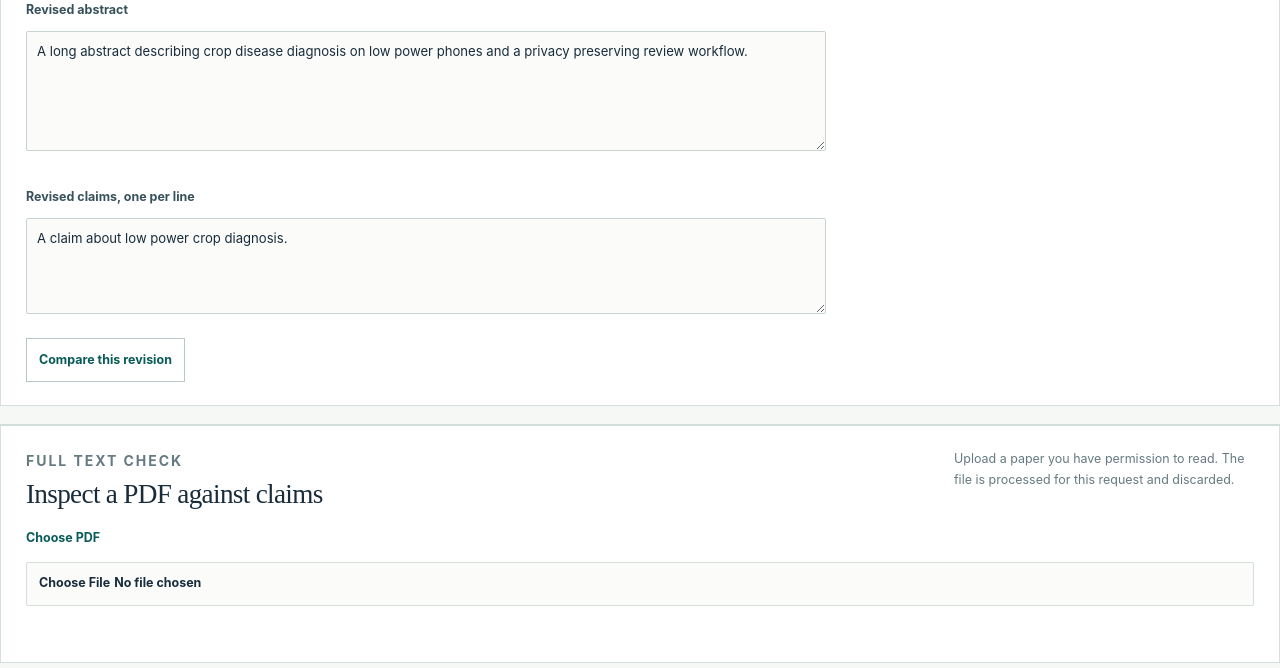
Scenario: shows evidence guidance and a bounded revision comparison
(page scrolled)
Click the button "Compare this revision".
click(105, 360)  # box [26,338,185,382]
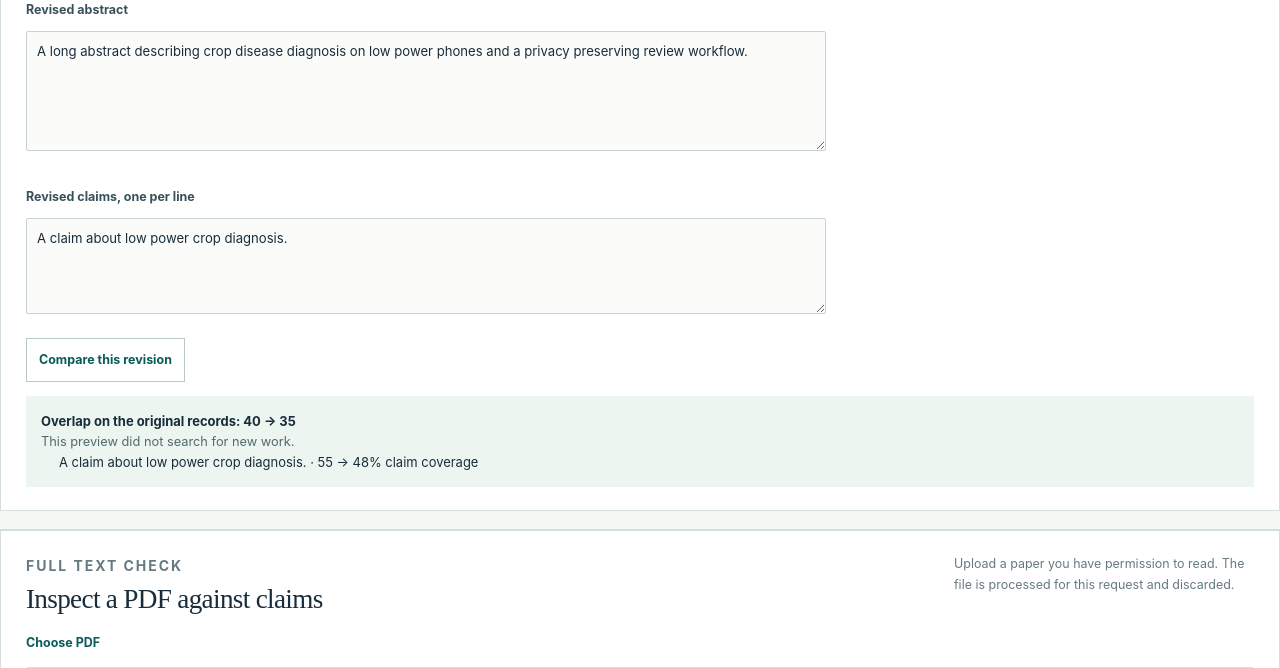
Expected: the text "Overlap on the original records: 40 → 35" is shown, [41,413,296,429]
